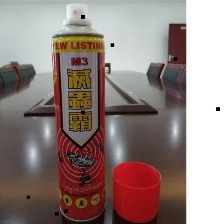aerosol_cans: (48, 2, 109, 224)
